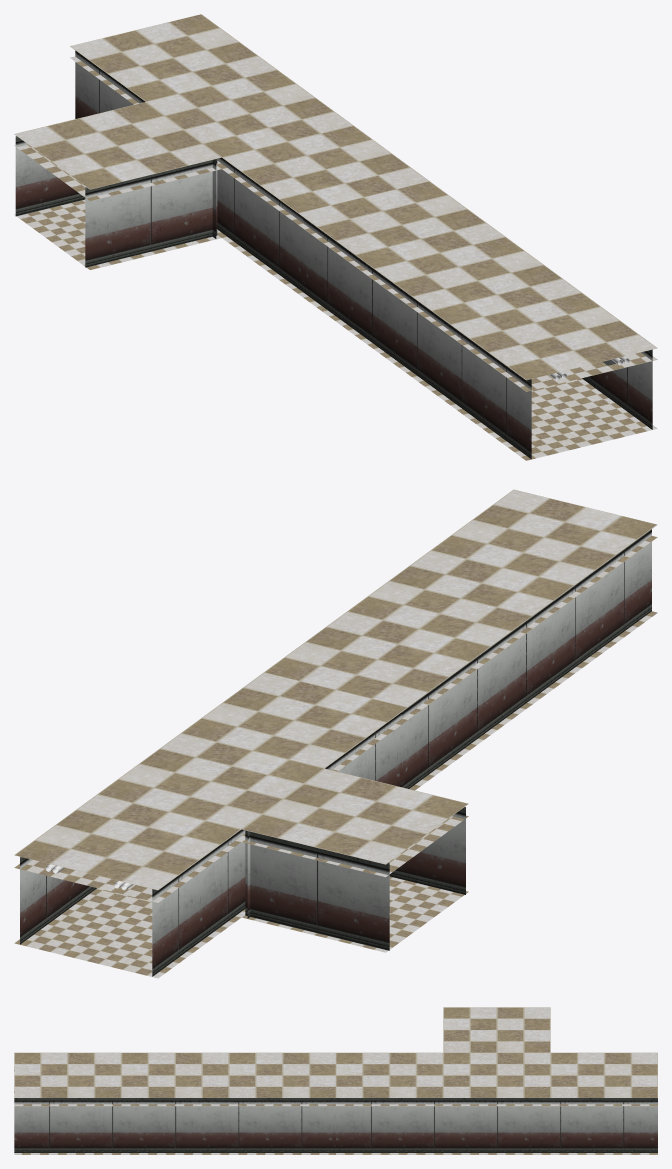
File: Facility.fbx
The picture shows the model from 3 angles, top to bottom: view 1: azimuth 30°, elevation 25°; view 2: azimuth 150°, elevation 25°; view 3: azimuth 270°, elevation 25°; orthographic projection. The views are drawn at different scales.
Parts seen in each view (by area): view 1: Ceiling, Ceiling.001, Walls, Walls.001, Floor.001, Floor; view 2: Ceiling, Ceiling.001, Walls, Walls.001, Floor, Floor.001; view 3: Ceiling, Walls, Walls.001, Ceiling.001, Floor, Floor.001.
Part boxes in pixels (x1,y1,x2,y2): Ceiling: (14,14,429,224); Ceiling.001: (298,181,657,391); Walls: (15,50,303,291); Walls.001: (303,217,652,458); Floor.001: (298,292,657,460); Floor: (14,200,302,293); Ceiling: (14,672,468,902); Ceiling.001: (264,489,657,719); Walls: (20,712,465,976); Walls.001: (402,529,651,788); Floor: (14,876,468,978); Floor.001: (409,611,657,790); Ceiling: (336,1007,657,1106); Walls: (336,1098,657,1152); Walls.001: (14,1098,335,1152); Ceiling.001: (14,1052,335,1106); Floor: (336,1153,657,1154); Floor.001: (14,1153,335,1154).
Size of the model in its own units: 1204 by 350 by 3602.
